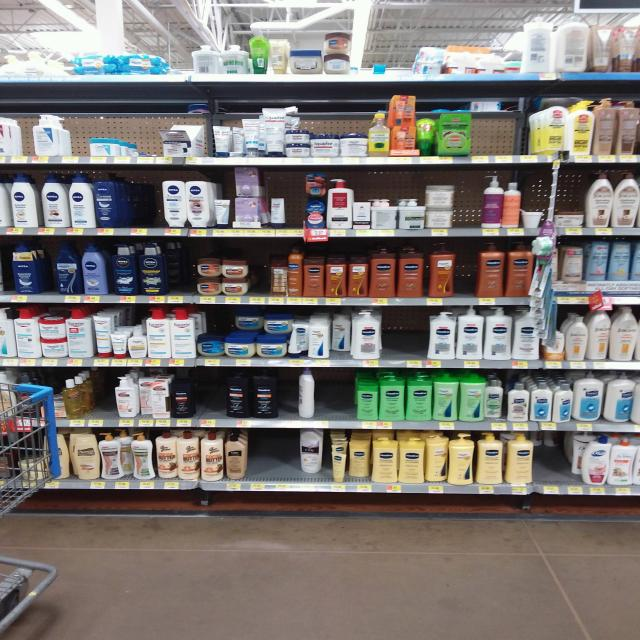void: (534, 434, 580, 500), (250, 427, 293, 493), (384, 308, 426, 374), (123, 168, 158, 244), (322, 370, 356, 434), (504, 97, 530, 169), (126, 112, 160, 166), (191, 371, 221, 432), (293, 171, 319, 240), (473, 102, 499, 166), (456, 173, 481, 237)
